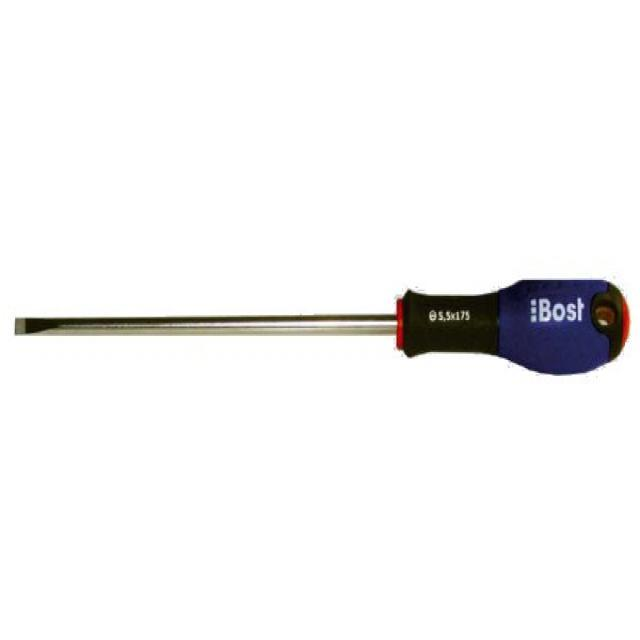screwdriver: (4, 258, 630, 408)
